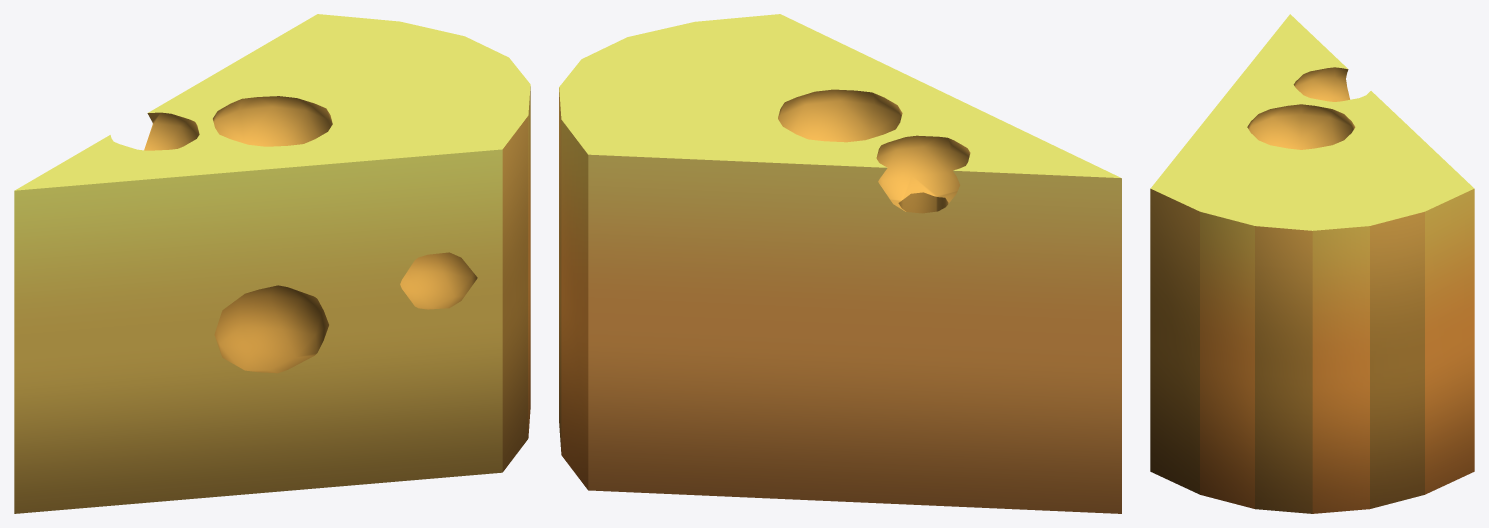
Rendered from food_cheese_wheel.glb.
The picture shows the model from 3 angles, left to right: view 1: azimuth 30°, elevation 25°; view 2: azimuth 150°, elevation 25°; view 3: azimuth 270°, elevation 25°; orthographic projection. The views are drawn at different scales.
Parts seen in each view (by area): view 1: Item; view 2: Item; view 3: Item.
Boxes of the visible parts, bbox=[...] form: Item: bbox=[14, 14, 530, 513]; Item: bbox=[559, 14, 1121, 513]; Item: bbox=[1150, 14, 1474, 513].
Size of the model in its own units: 0.46 by 0.28 by 0.2905.
Materials: 1 (1 with a texture image).
